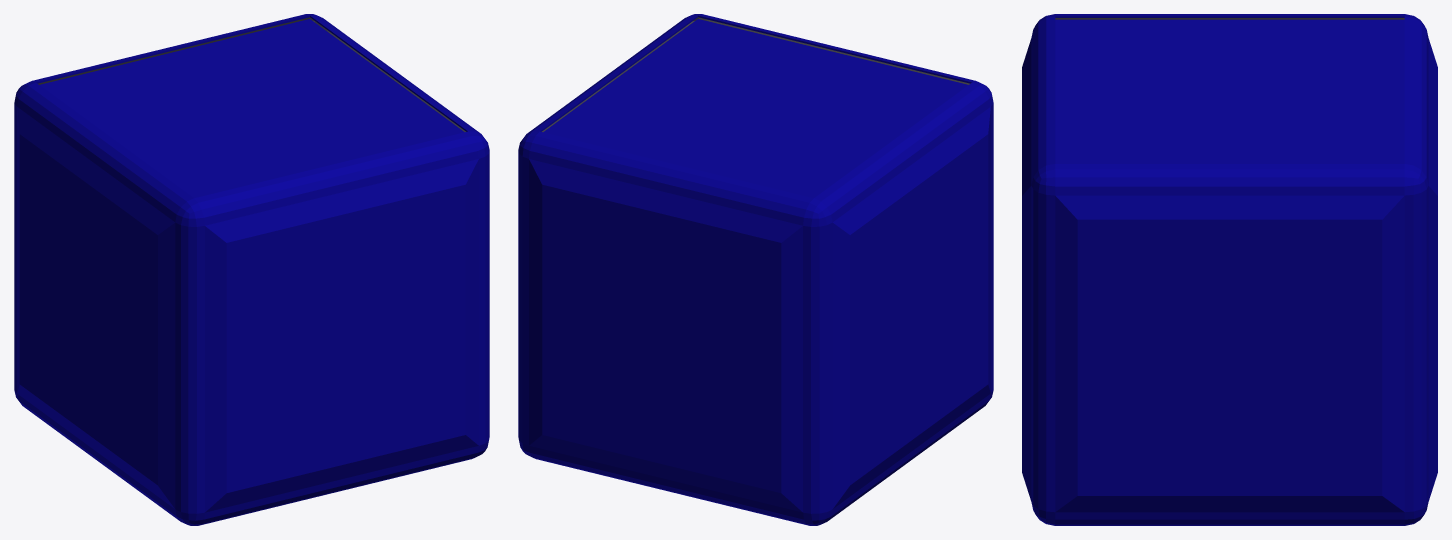
File: container.glb
The picture shows the model from 3 angles, left to right: view 1: azimuth 30°, elevation 25°; view 2: azimuth 150°, elevation 25°; view 3: azimuth 270°, elevation 25°; orthographic projection. The views are drawn at different scales.
Parts seen in each view (by area): view 1: Box, Top; view 2: Box, Top; view 3: Box, Top.
Part boxes in pixels (x1,y1,x2,y2): Box: [14, 14, 489, 525]; Top: [39, 19, 464, 198]; Box: [518, 14, 993, 525]; Top: [543, 19, 968, 198]; Box: [1022, 14, 1437, 525]; Top: [1055, 19, 1404, 163].
Size of the model in its own units: 1.05 by 1 by 1.05.
